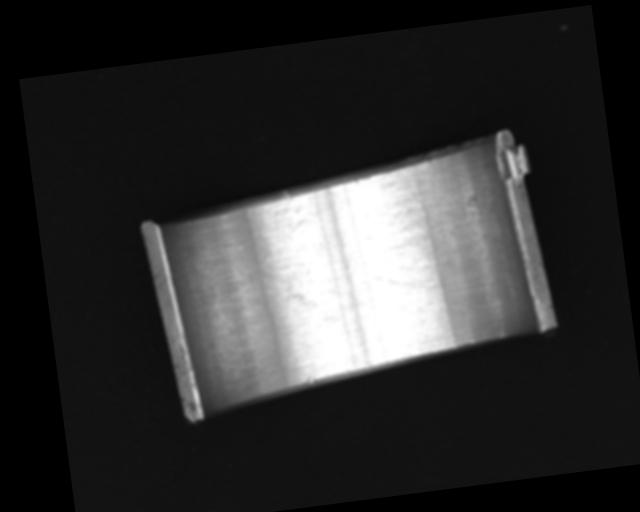blot: (261, 264, 319, 316)
bruise: (305, 375, 315, 384)
nick: (498, 324, 506, 339)
